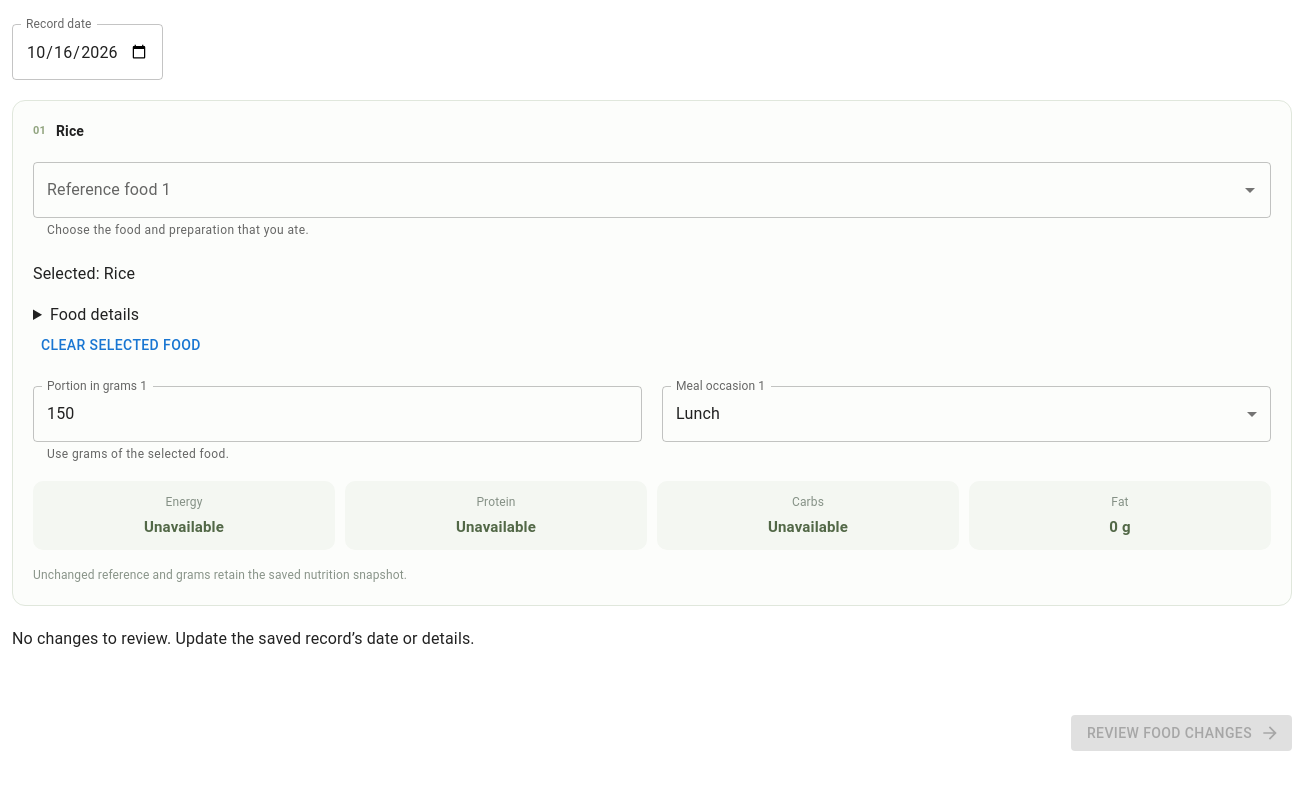
Test case: F13 correction editors preserve saved snapshots › does not recalculate an unchanged legacy food and permits date-only review with original null nutrients
Expected: the text "Unchanged reference and grams retain the saved nutrition snapshot." is shown, [33,568,407,582]
Expected: the text "Unavailable" is shown 3 times, [144,518,224,536]; [456,518,536,536]; [768,518,848,536]
Type "2026-10-15" into the date field labelled "Record date" at (88,52), box [12,24,163,80]
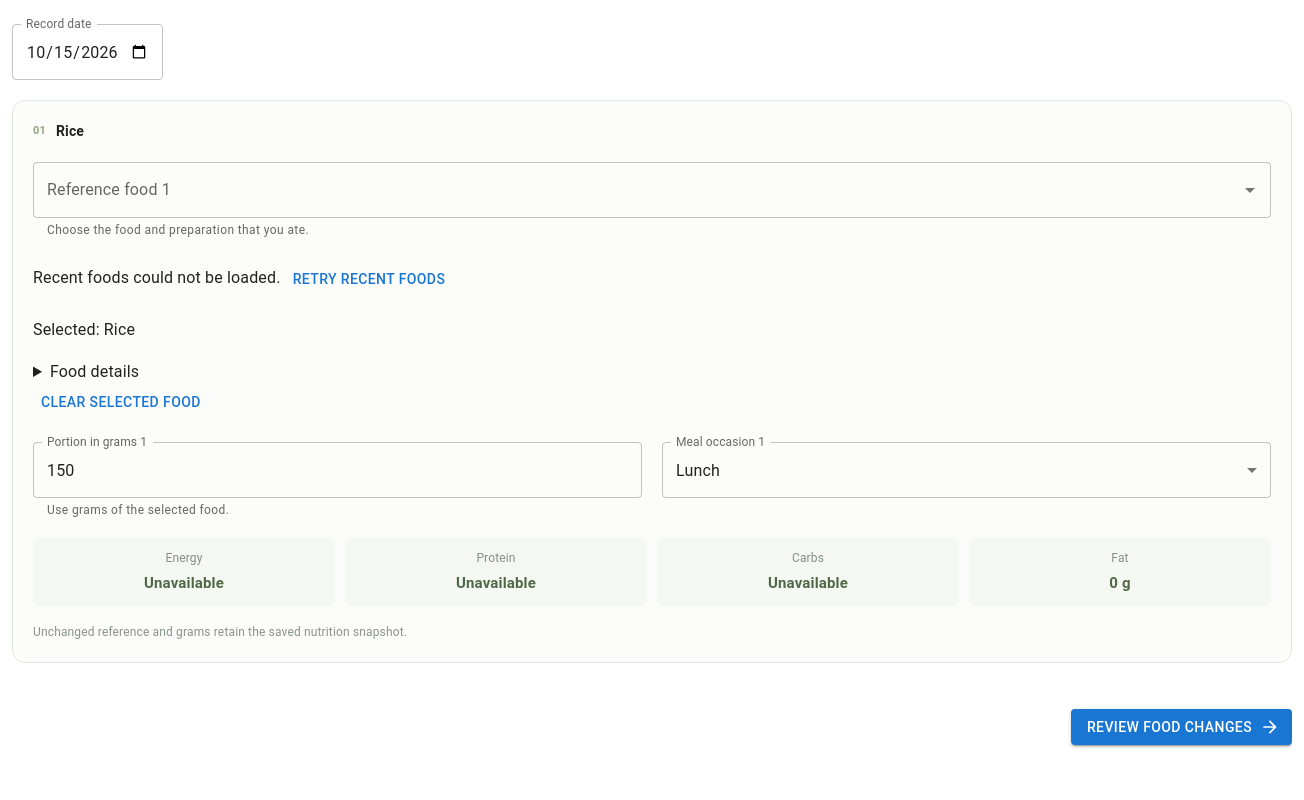
Expected: the button "Review food changes" is enabled, [1071,709,1292,745]
